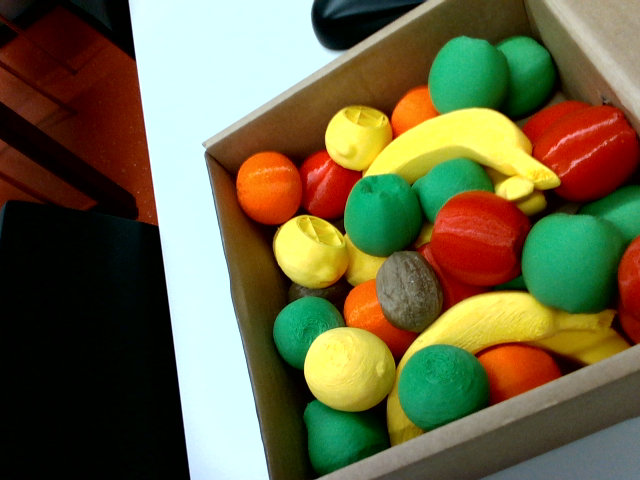banana: (347, 237, 620, 448), (364, 108, 559, 189), (528, 311, 631, 380), (476, 153, 552, 223)
green apple: (511, 202, 630, 321), (386, 333, 496, 435), (290, 379, 392, 476), (259, 282, 349, 372), (342, 172, 425, 259), (427, 33, 511, 114), (408, 147, 494, 222), (496, 34, 557, 118), (579, 185, 639, 244)
lemon: (259, 200, 362, 302), (297, 320, 401, 418), (311, 89, 401, 180)
orange: (331, 274, 422, 370), (471, 327, 563, 405), (233, 149, 304, 226), (377, 81, 441, 138)
red apple: (524, 89, 640, 217), (423, 182, 535, 294), (284, 143, 363, 224), (518, 85, 589, 146), (618, 236, 639, 317), (1, 0, 1, 0)
walnut: (357, 240, 459, 343), (286, 272, 353, 313)
